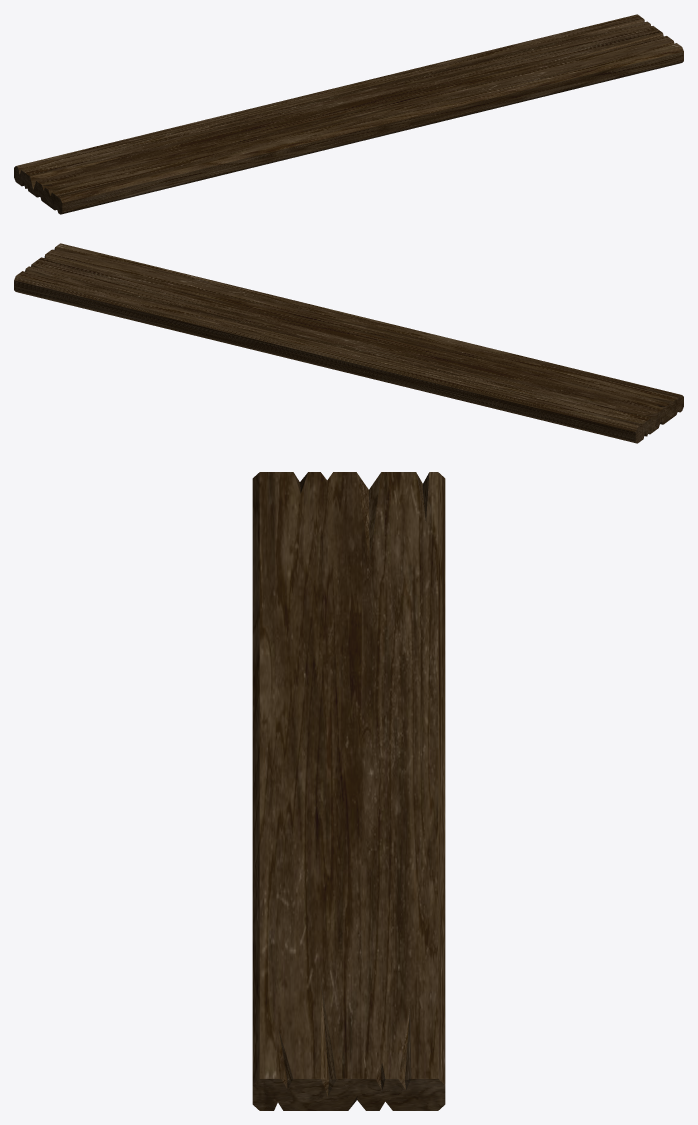
Rendered from plank.glb.
3 renders of one model, top to bottom at view 1: azimuth 30°, elevation 25°; view 2: azimuth 150°, elevation 25°; view 3: azimuth 270°, elevation 25°, orthographic. The views are drawn at different scales.
Visible parts, largest first — view 1: pCube11; view 2: pCube11; view 3: pCube11.
Part boxes in pixels (box(x1,y1,x2,y2)): pCube11: box(14, 14, 683, 214); pCube11: box(14, 243, 683, 443); pCube11: box(252, 472, 445, 1110).
Size of the model in its own units: 0.2224 by 0.00546 by 0.0299.
Materials: 1 (1 with a texture image).
